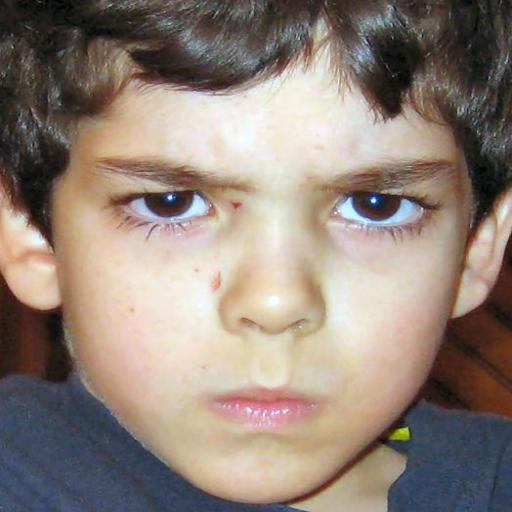Autism: (12, 6, 512, 503)
